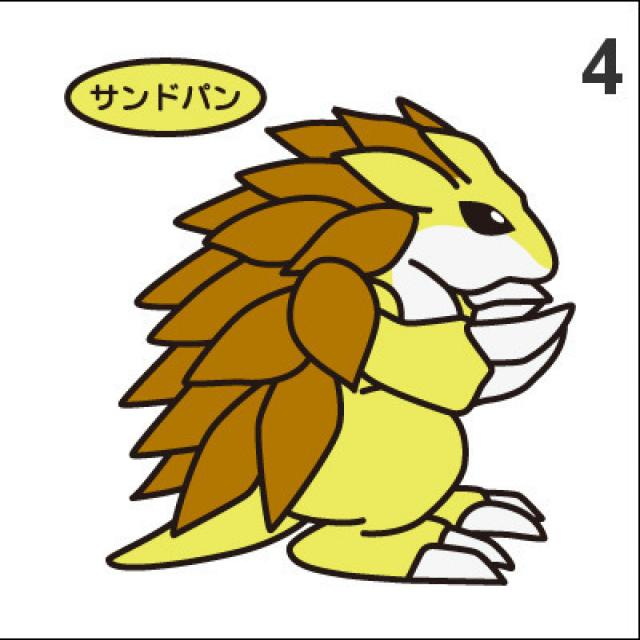Sandslash: (195, 109, 583, 607)
